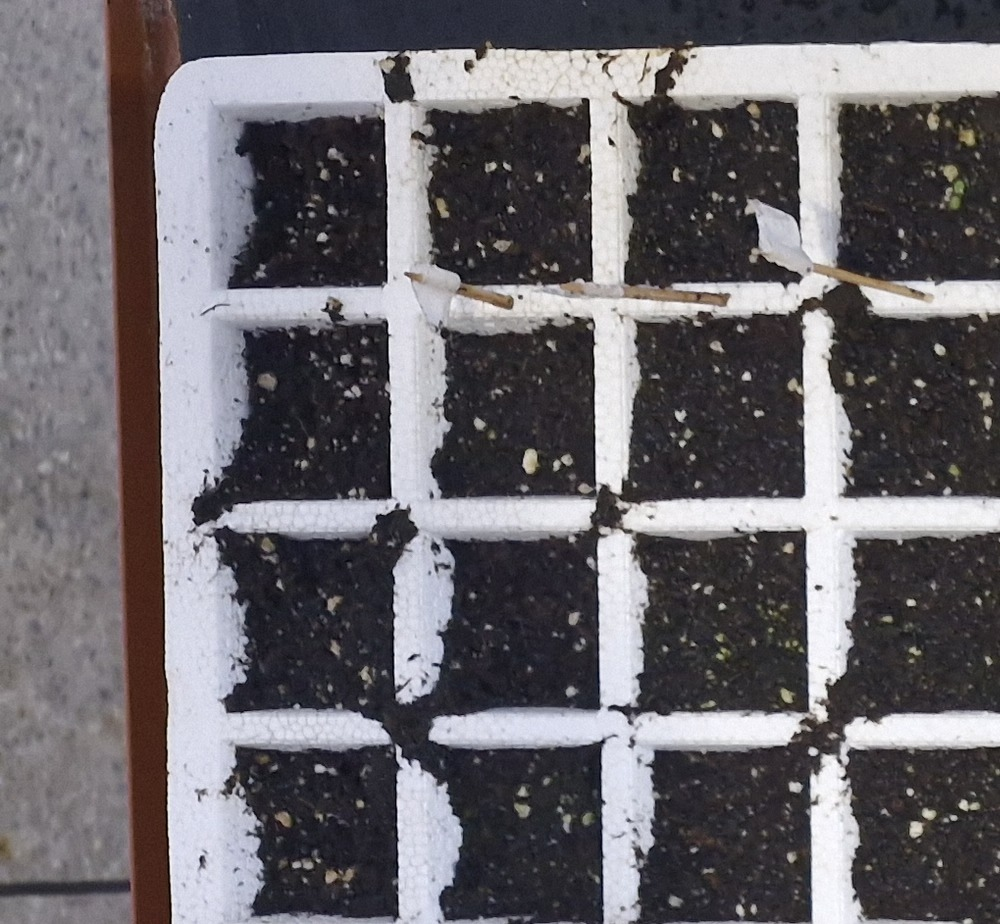Folha: (954, 180, 965, 193), (951, 196, 961, 209)
Germinacao: (950, 181, 965, 209)
